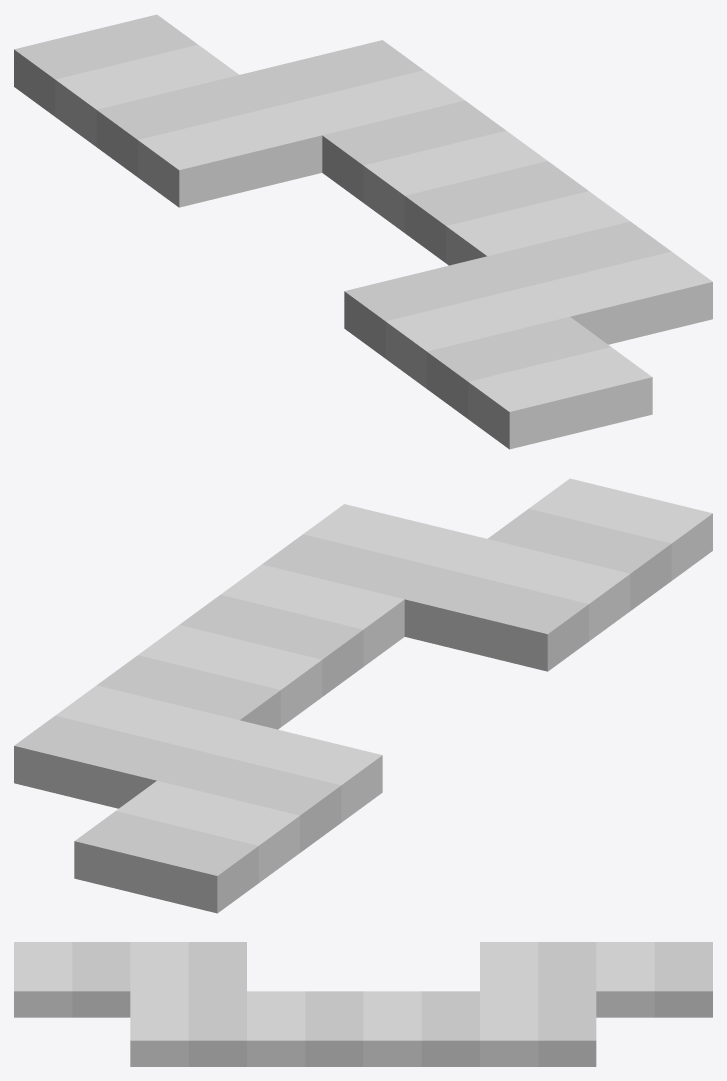
The model's file is road_07.fbx.
3 views of the same model, one above another, from view 1: azimuth 30°, elevation 25°; view 2: azimuth 150°, elevation 25°; view 3: azimuth 270°, elevation 25° (orthographic). The views are drawn at different scales.
Parts seen in each view (by area): view 1: road_07; view 2: road_07; view 3: road_07.
Part boxes in pixels (bbox=[...]): road_07: bbox=[14, 14, 712, 449]; road_07: bbox=[14, 478, 712, 913]; road_07: bbox=[14, 942, 712, 1066].
Bounding box in the file's own units: 20.42 × 2.55 × 61.25.
